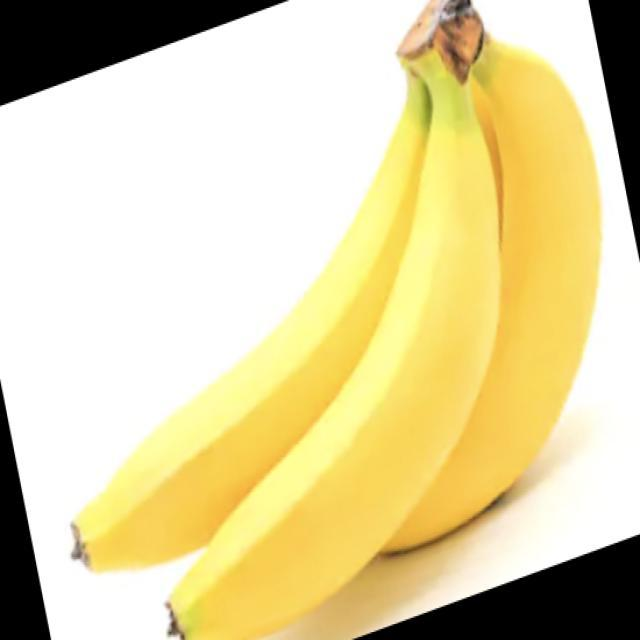Banana: (68, 0, 602, 639)
